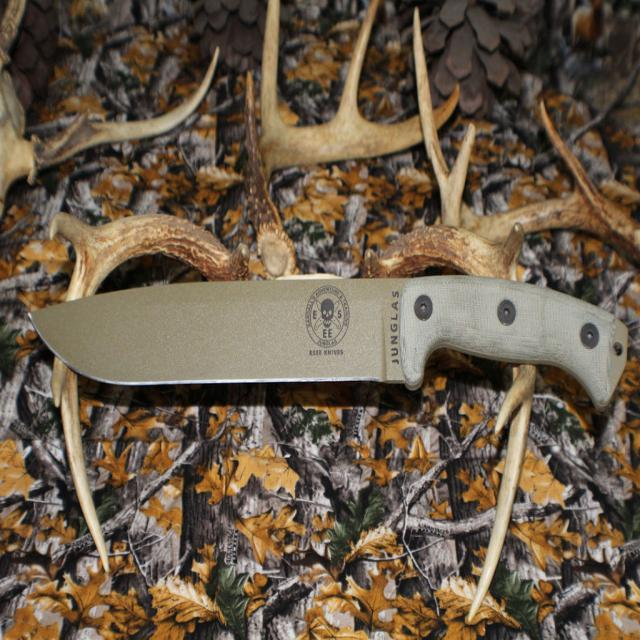Knife: (31, 276, 625, 407)
